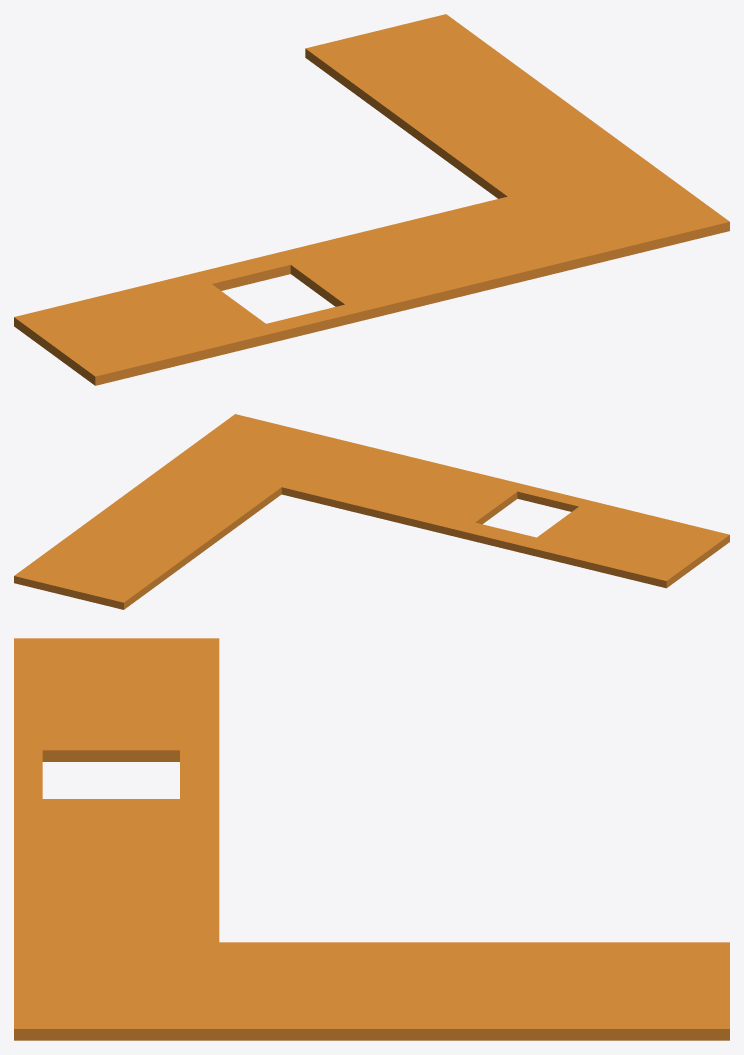
Rendered from KuechenPlatte.fbx.
3 renders of one model, top to bottom at view 1: azimuth 30°, elevation 25°; view 2: azimuth 150°, elevation 25°; view 3: azimuth 270°, elevation 25°, orthographic. The views are drawn at different scales.
Parts seen in each view (by area): view 1: Kuechenplatte; view 2: Kuechenplatte; view 3: Kuechenplatte.
Boxes of the visible parts, bbox=[...] form: Kuechenplatte: bbox=[14, 14, 729, 385]; Kuechenplatte: bbox=[14, 414, 729, 609]; Kuechenplatte: bbox=[14, 638, 729, 1040].
Size of the model in its own units: 286 by 4 by 221.
